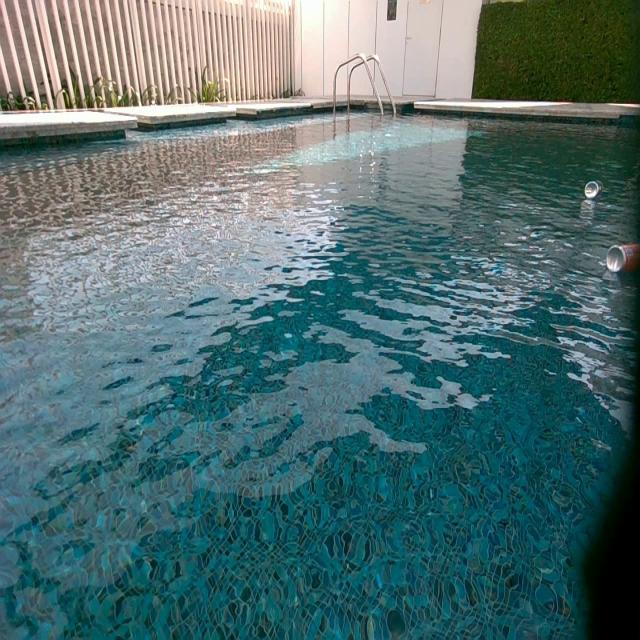Cans: (607, 243, 640, 274), (585, 180, 601, 199)
